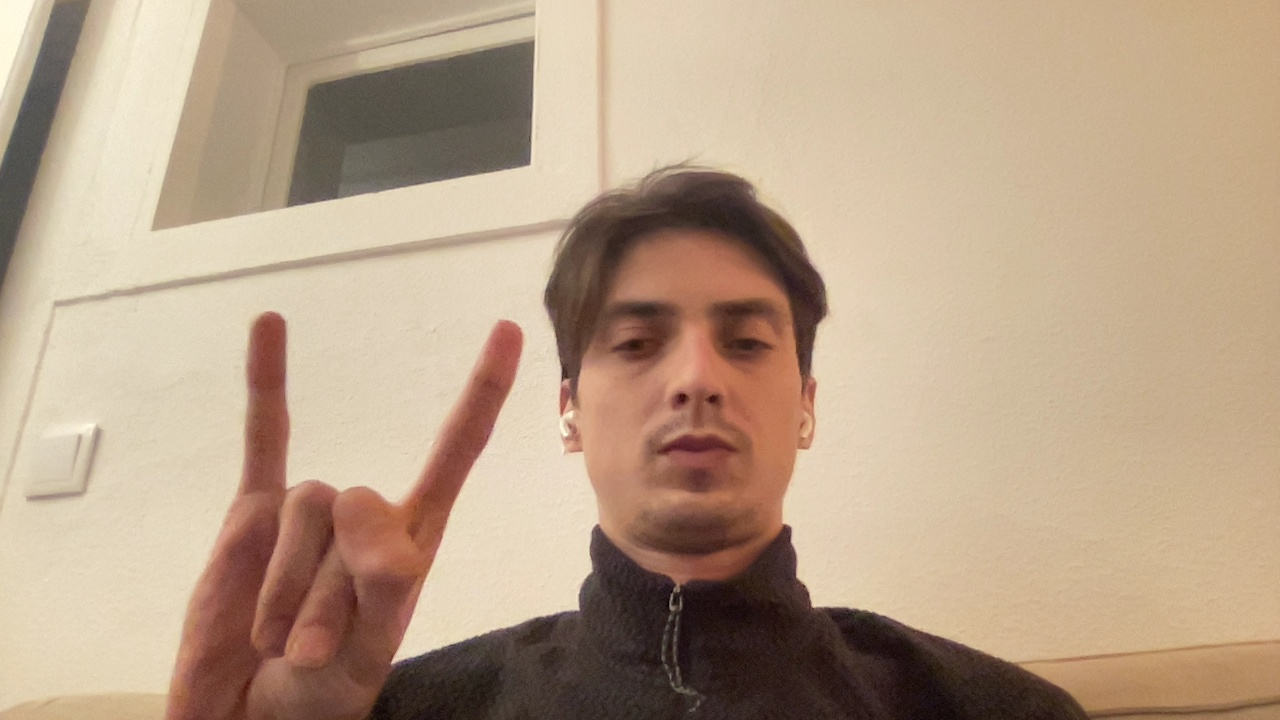I Love You: (158, 261, 531, 701)
